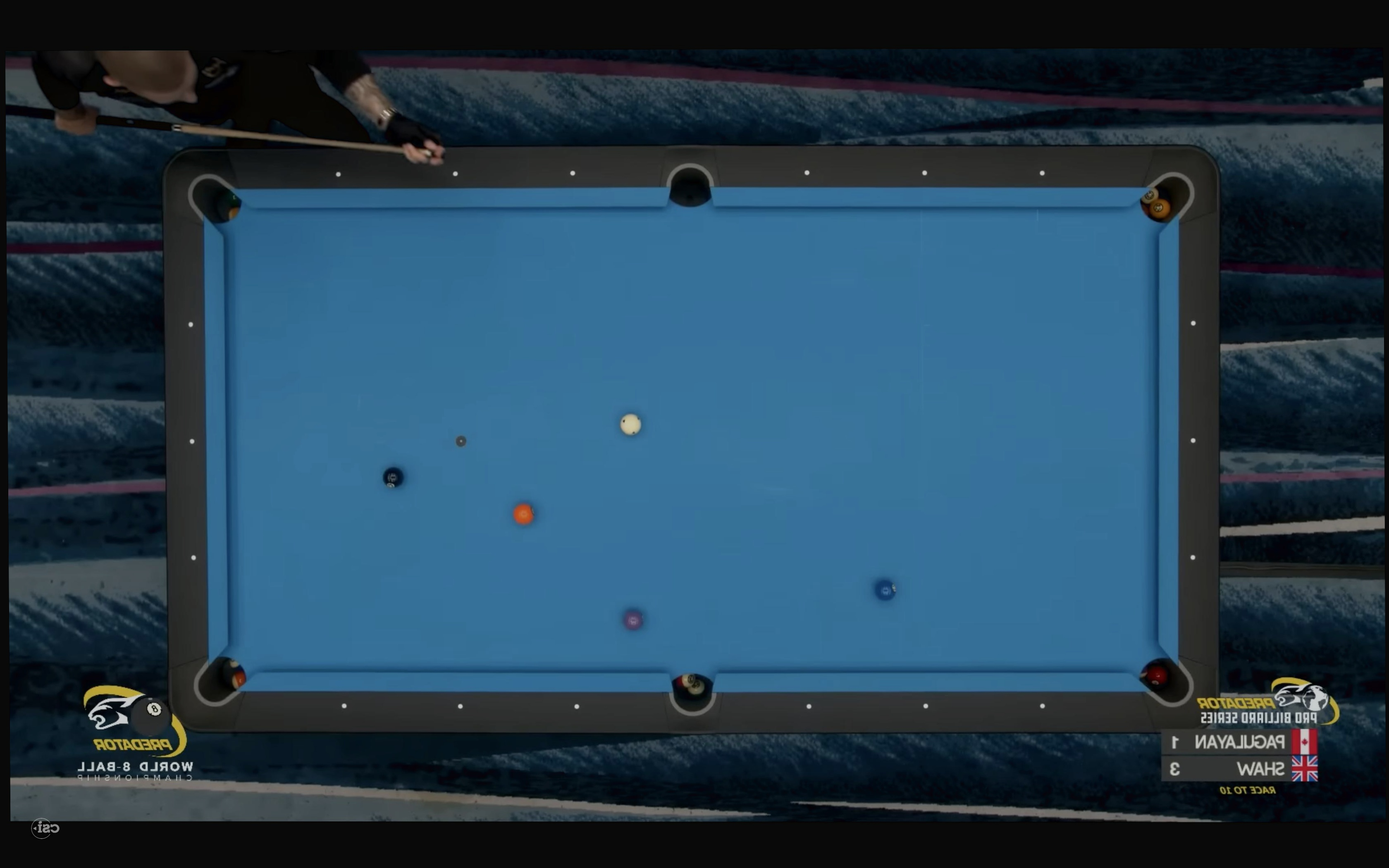Black: (188, 438, 196, 445), (1189, 437, 1196, 444), (341, 702, 348, 709), (187, 321, 194, 328), (452, 170, 459, 177), (1190, 320, 1196, 327), (1190, 554, 1196, 561), (922, 703, 929, 709), (806, 703, 812, 710), (574, 703, 580, 710), (457, 703, 463, 710), (570, 170, 576, 177), (1039, 703, 1045, 709), (190, 555, 196, 561), (804, 170, 810, 176), (922, 170, 928, 176), (1039, 170, 1045, 176), (336, 171, 341, 178)
Cue: (873, 578, 896, 602), (512, 502, 535, 526), (623, 608, 644, 632)
Solid: (381, 466, 406, 490)
Stripe: (619, 413, 644, 437)
